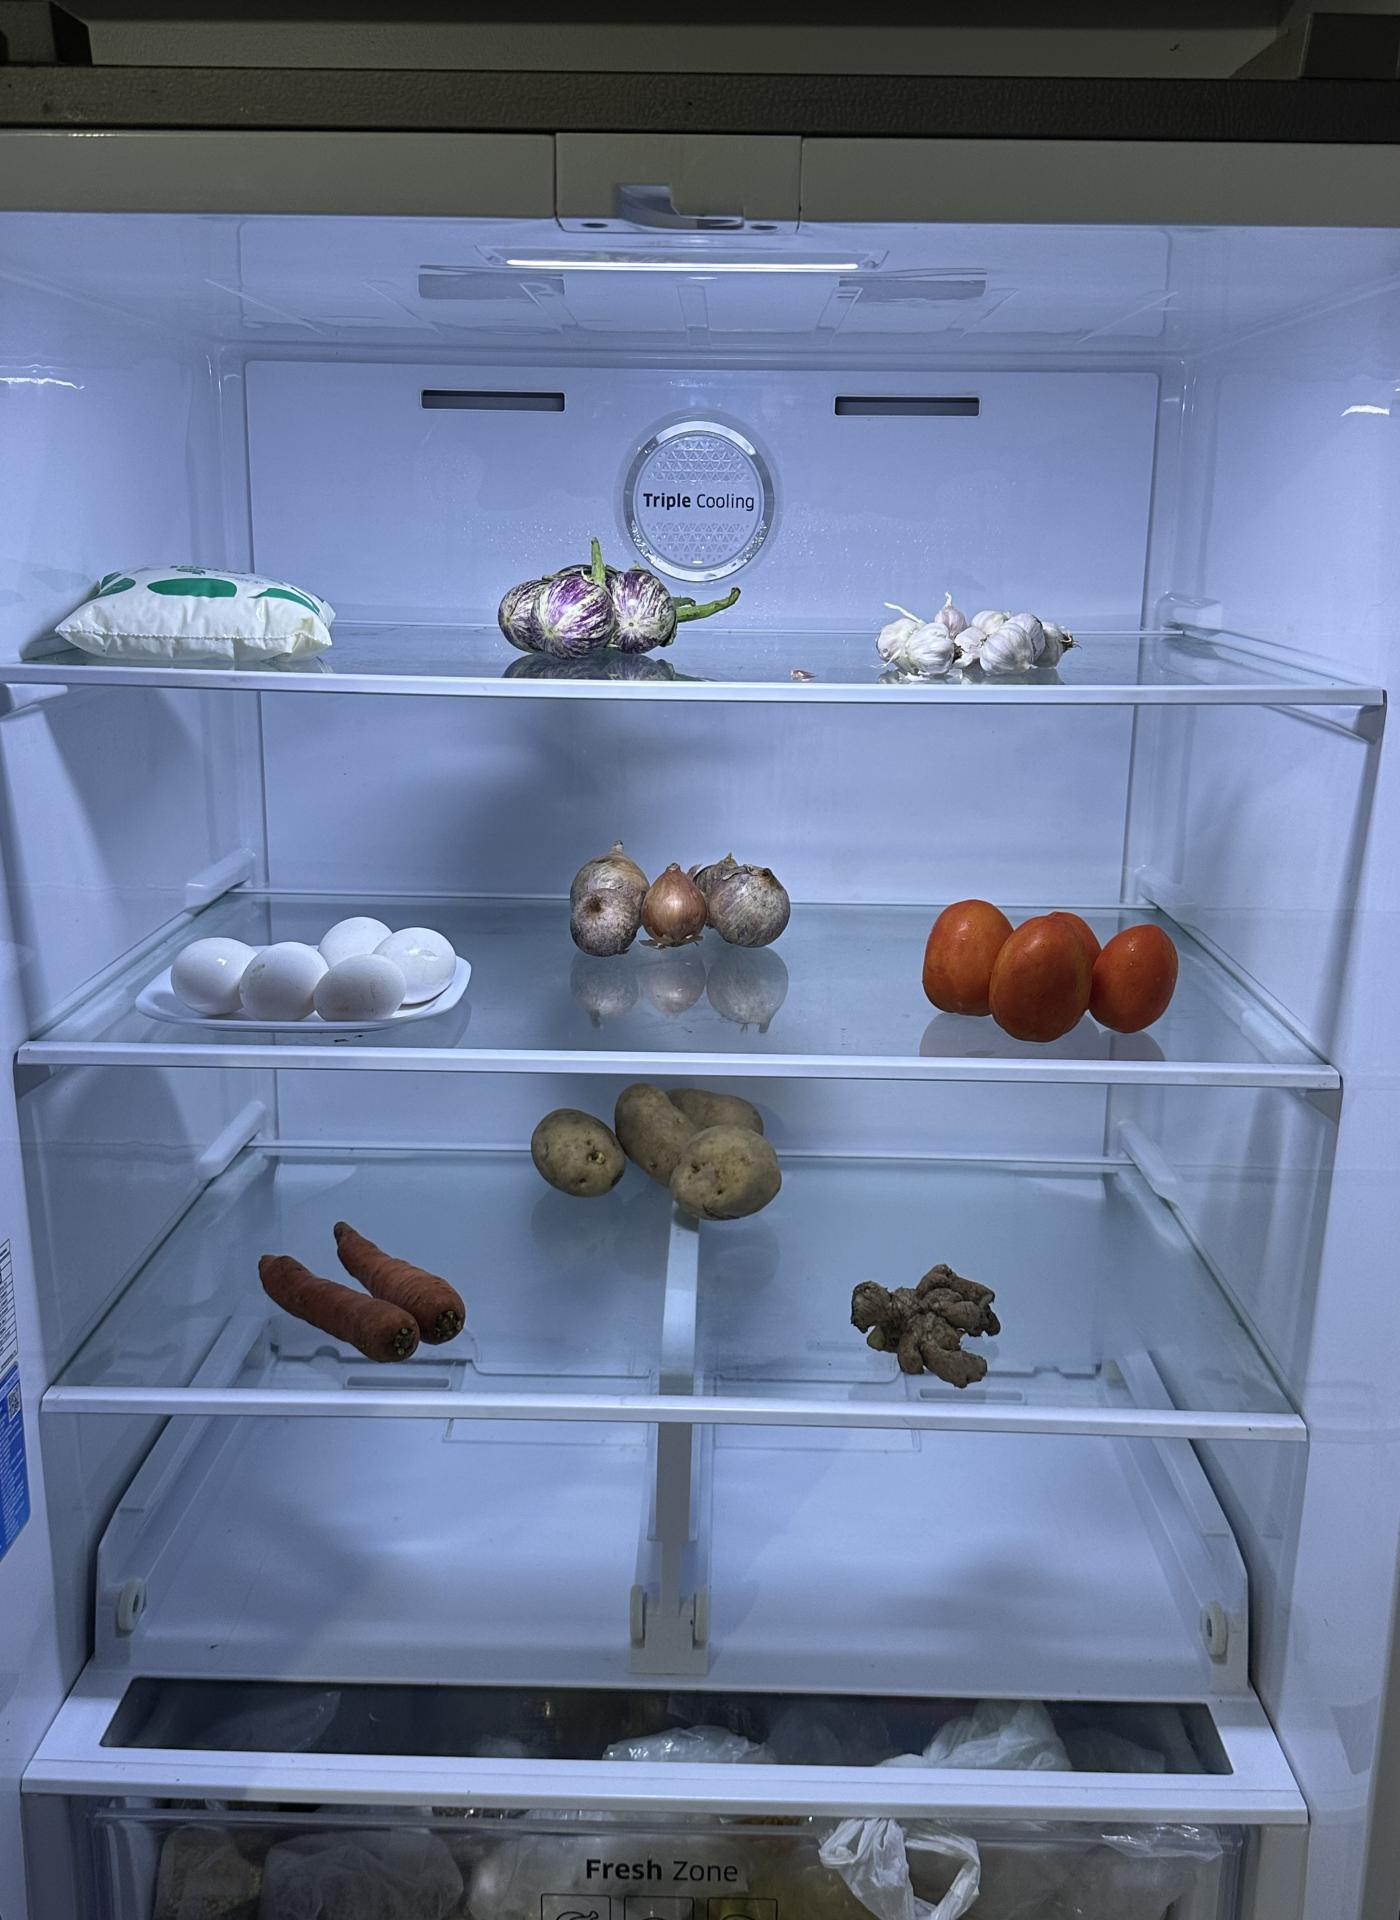brinjal: (491, 553, 725, 671)
carrots: (264, 1209, 473, 1365)
egg: (167, 905, 465, 1027)
garlic: (871, 590, 1078, 687)
ginger: (845, 1251, 1008, 1394)
milk: (15, 552, 340, 668)
onion: (561, 830, 796, 950)
potato: (528, 1070, 796, 1215)
tomato: (918, 891, 1188, 1049)
